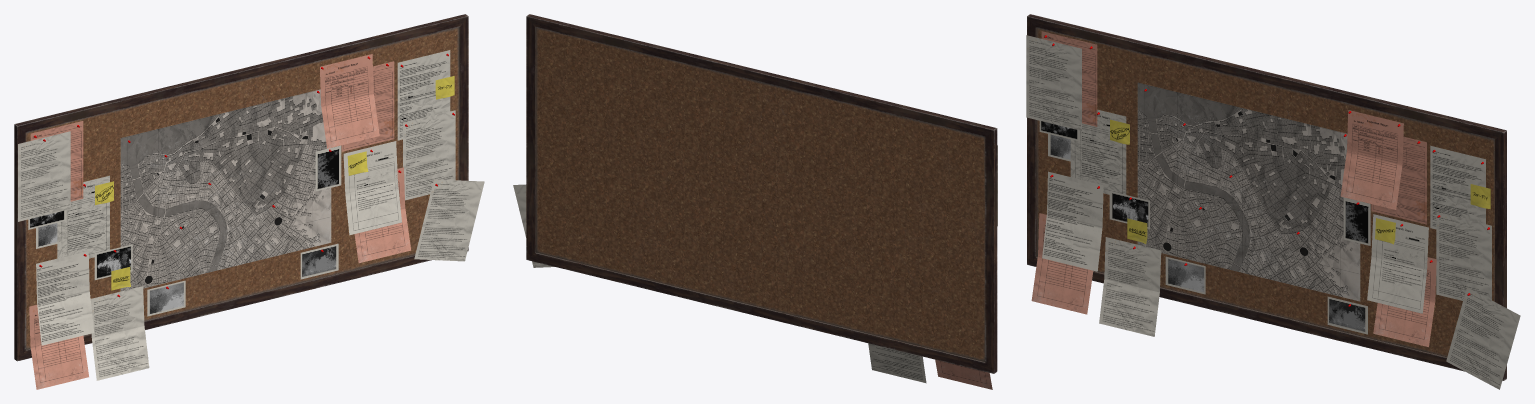
File: Corkboard.glb
The picture shows the model from 3 angles, left to right: view 1: azimuth 30°, elevation 25°; view 2: azimuth 150°, elevation 25°; view 3: azimuth 330°, elevation 25°; orthographic projection. The views are drawn at different scales.
Parts seen in each view (by area): view 1: CorkBoard_Base, map, paper.002, paper.004, paper.045, paper.043, paper.035, paper.005, paper.001, paper.003, paper.006, paper.042 (+10 smaller); view 2: CorkBoard_Base, paper.045, paper.042, paper.043; view 3: CorkBoard_Base, map, paper.002, paper.045, paper.004, paper.043, paper.035, paper.005, paper.001, paper.003, paper.006, paper.042 (+13 smaller).
Part boxes in pixels (left/top/right/bottom): CorkBoard_Base: left=14, top=14, right=468, bottom=361; map: left=120, top=89, right=331, bottom=291; paper.002: left=320, top=54, right=379, bottom=148; paper.004: left=36, top=251, right=94, bottom=345; paper.045: left=90, top=286, right=149, bottom=380; paper.043: left=414, top=179, right=484, bottom=261; paper.035: left=18, top=131, right=70, bottom=221; paper.005: left=343, top=141, right=401, bottom=235; paper.001: left=403, top=110, right=455, bottom=200; paper.003: left=397, top=50, right=450, bottom=140; paper.006: left=57, top=175, right=109, bottom=258; paper.042: left=29, top=305, right=88, bottom=389; CorkBoard_Base: left=526, top=14, right=997, bottom=373; paper.045: left=868, top=343, right=926, bottom=383; paper.042: left=935, top=359, right=992, bottom=389; paper.043: left=513, top=184, right=554, bottom=267; CorkBoard_Base: left=1027, top=14, right=1506, bottom=380; map: left=1137, top=82, right=1360, bottom=301; paper.002: left=1340, top=110, right=1403, bottom=209; paper.045: left=1099, top=237, right=1161, bottom=336; paper.004: left=1042, top=171, right=1103, bottom=271; paper.043: left=1446, top=287, right=1520, bottom=389; paper.035: left=1026, top=35, right=1081, bottom=130; paper.005: left=1367, top=214, right=1428, bottom=313; paper.001: left=1436, top=212, right=1491, bottom=300; paper.003: left=1430, top=145, right=1485, bottom=229; paper.006: left=1070, top=109, right=1126, bottom=194; paper.042: left=1031, top=213, right=1093, bottom=314.
Size of the model in its own units: 1.86 by 1.02 by 0.0724.
2 materials, 2 textured.
